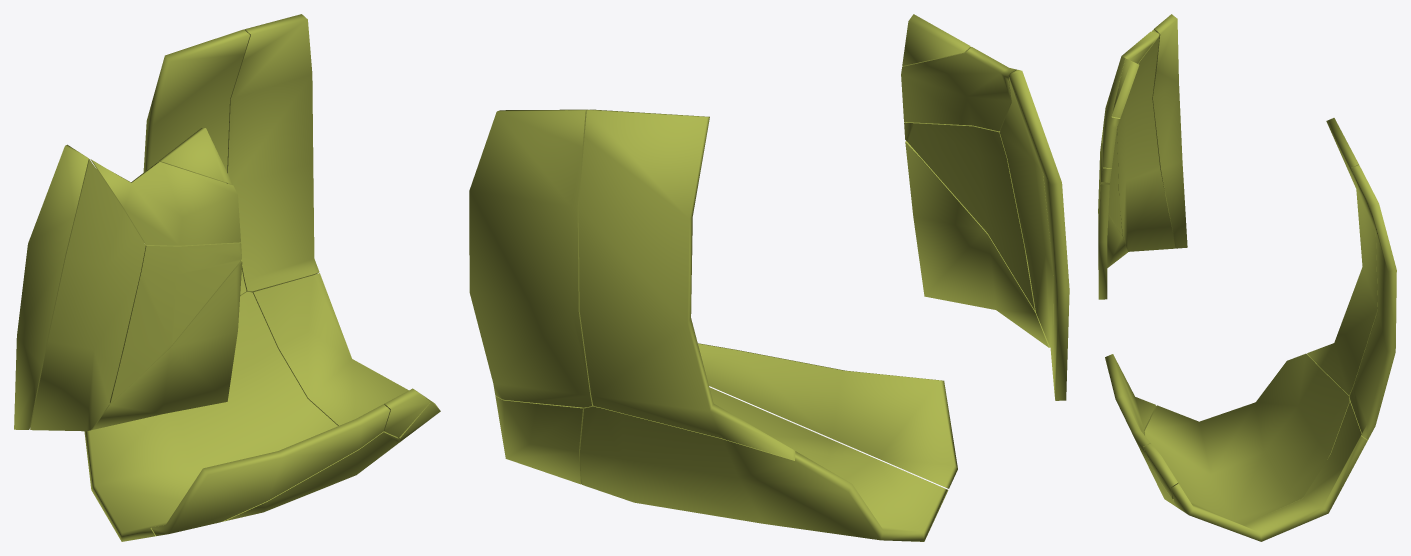
Rendered from Plaque_15.fbx.
The picture shows the model from 3 angles, left to right: view 1: azimuth 30°, elevation 25°; view 2: azimuth 150°, elevation 25°; view 3: azimuth 270°, elevation 25°; orthographic projection. The views are drawn at different scales.
Parts seen in each view (by area): view 1: tooth_u.039_cell, tooth_u.039_cell.003, tooth_u.042_cell, tooth_u.039_cell.004, tooth_u.042_cell.003, tooth_u.039_cell.005, tooth_u.042_cell.001, tooth_u.042_cell.004, tooth_u.039_cell.001, tooth_u.042_cell.005, tooth_u.042_cell.002, tooth_u.039_cell.002; view 2: tooth_u.039_cell.001, tooth_u.039_cell, tooth_u.039_cell.003, tooth_u.039_cell.005, tooth_u.042_cell.003, tooth_u.042_cell.001, tooth_u.042_cell.005, tooth_u.042_cell, tooth_u.039_cell.004, tooth_u.042_cell.004, tooth_u.042_cell.002; view 3: tooth_u.039_cell, tooth_u.042_cell, tooth_u.039_cell.003, tooth_u.039_cell.001, tooth_u.039_cell.004, tooth_u.042_cell.004, tooth_u.039_cell.005, tooth_u.042_cell.003, tooth_u.042_cell.005, tooth_u.042_cell.001, tooth_u.042_cell.002, tooth_u.039_cell.002.
Part boxes in pixels (box(x1,y1,x2,y2)): tooth_u.039_cell: box(84, 291, 398, 541); tooth_u.039_cell.003: box(227, 14, 319, 292); tooth_u.042_cell: box(30, 159, 145, 431); tooth_u.039_cell.004: box(253, 273, 440, 442); tooth_u.042_cell.003: box(92, 261, 242, 429); tooth_u.039_cell.005: box(151, 404, 390, 535); tooth_u.042_cell.001: box(110, 242, 241, 403); tooth_u.042_cell.004: box(14, 144, 89, 429); tooth_u.039_cell.001: box(143, 29, 249, 294); tooth_u.042_cell.005: box(90, 159, 240, 245); tooth_u.042_cell.002: box(159, 128, 232, 184); tooth_u.039_cell.002: box(384, 388, 429, 437); tooth_u.039_cell.001: box(578, 109, 793, 459); tooth_u.039_cell: box(580, 387, 948, 541); tooth_u.039_cell.003: box(469, 109, 592, 407); tooth_u.039_cell.005: box(698, 343, 957, 488); tooth_u.042_cell.003: box(905, 141, 1049, 347); tooth_u.042_cell.001: box(904, 122, 1035, 310); tooth_u.042_cell.005: box(901, 47, 1016, 131); tooth_u.042_cell: box(999, 77, 1054, 389); tooth_u.039_cell.004: box(495, 396, 584, 484); tooth_u.042_cell.004: box(1009, 69, 1069, 400); tooth_u.042_cell.002: box(902, 14, 970, 65); tooth_u.039_cell: box(1144, 353, 1350, 525); tooth_u.042_cell: box(1117, 29, 1175, 251); tooth_u.039_cell.003: box(1349, 165, 1396, 439); tooth_u.039_cell.001: box(1307, 118, 1377, 395); tooth_u.039_cell.004: box(1171, 402, 1367, 541); tooth_u.042_cell.004: box(1152, 14, 1187, 248); tooth_u.039_cell.005: box(1105, 354, 1155, 468); tooth_u.042_cell.003: box(1098, 184, 1127, 299); tooth_u.042_cell.005: box(1103, 31, 1159, 168); tooth_u.042_cell.001: box(1098, 127, 1122, 234); tooth_u.042_cell.002: box(1112, 58, 1139, 118); tooth_u.039_cell.002: box(1143, 443, 1178, 499).
Bounding box in the file's own units: 105 × 98.61 × 67.72.
